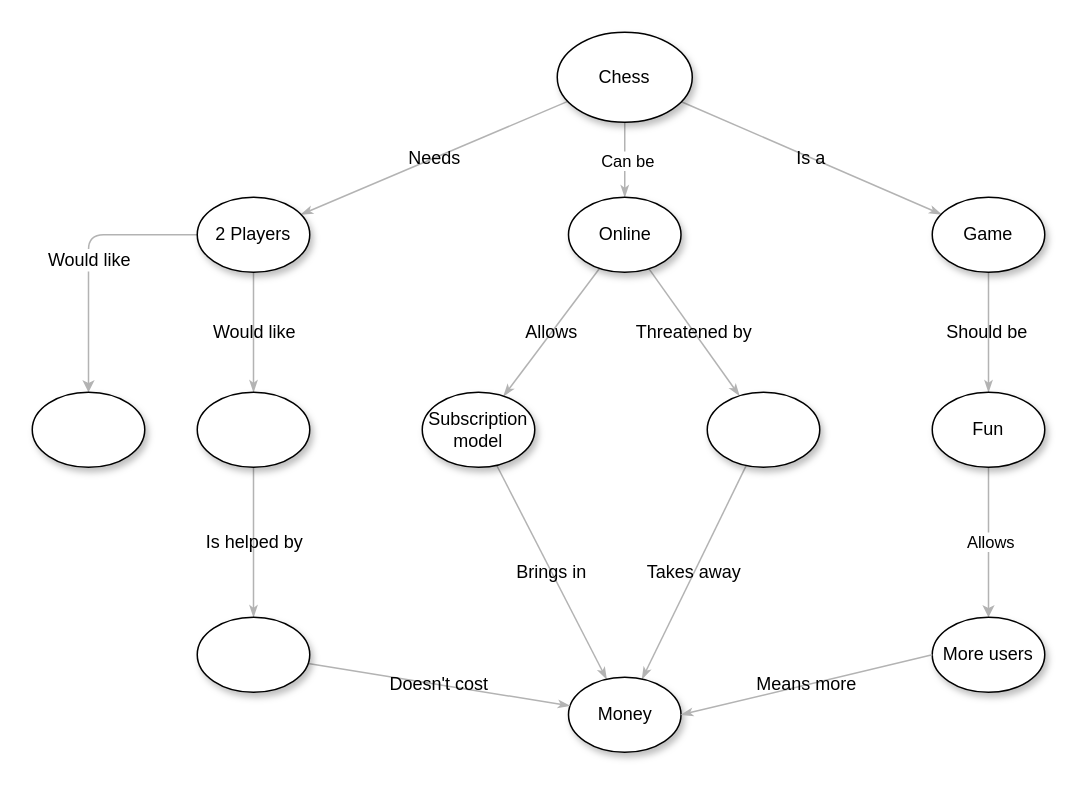
This 1080x789 diagram has some shape labels left out. The centre of each missing label's shape, as x and y in pixels:
"Abuse" belongs at pixel 764 431.
"Fast game" belongs at pixel 89 431.
"Quick start" belongs at pixel 254 431.
"WebSockets" belongs at pixel 254 656.
